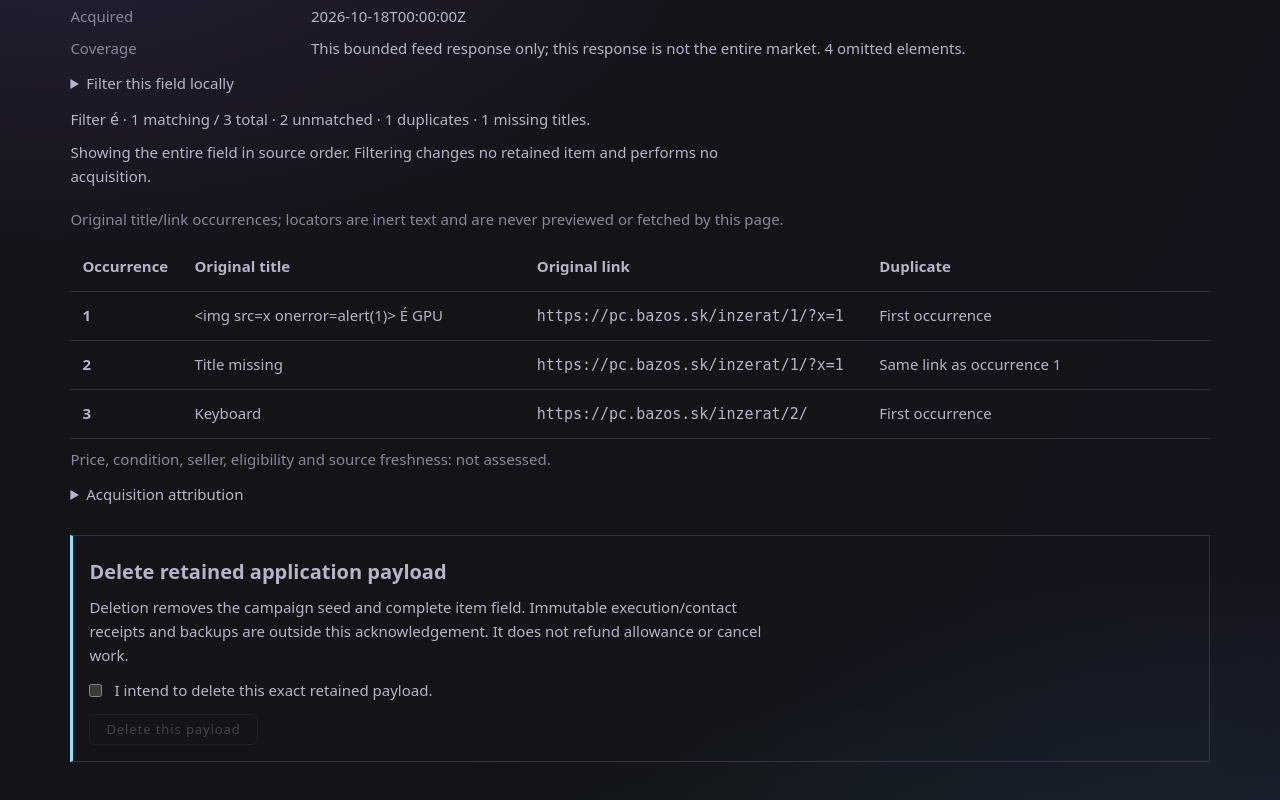
requires explicit terminal-delete confirmation and clears the complete payload only after the exact acknowledgement
(page scrolled)
Expected: the text "Keyboard" is shown, [182,390,525,439]
Expected: the button "Delete this payload" is disabled, [89,714,258,745]
Step 1. Click the checkbox labelled "I intend to delete this exact retained payload." → (96, 690), box [89,684,102,697]
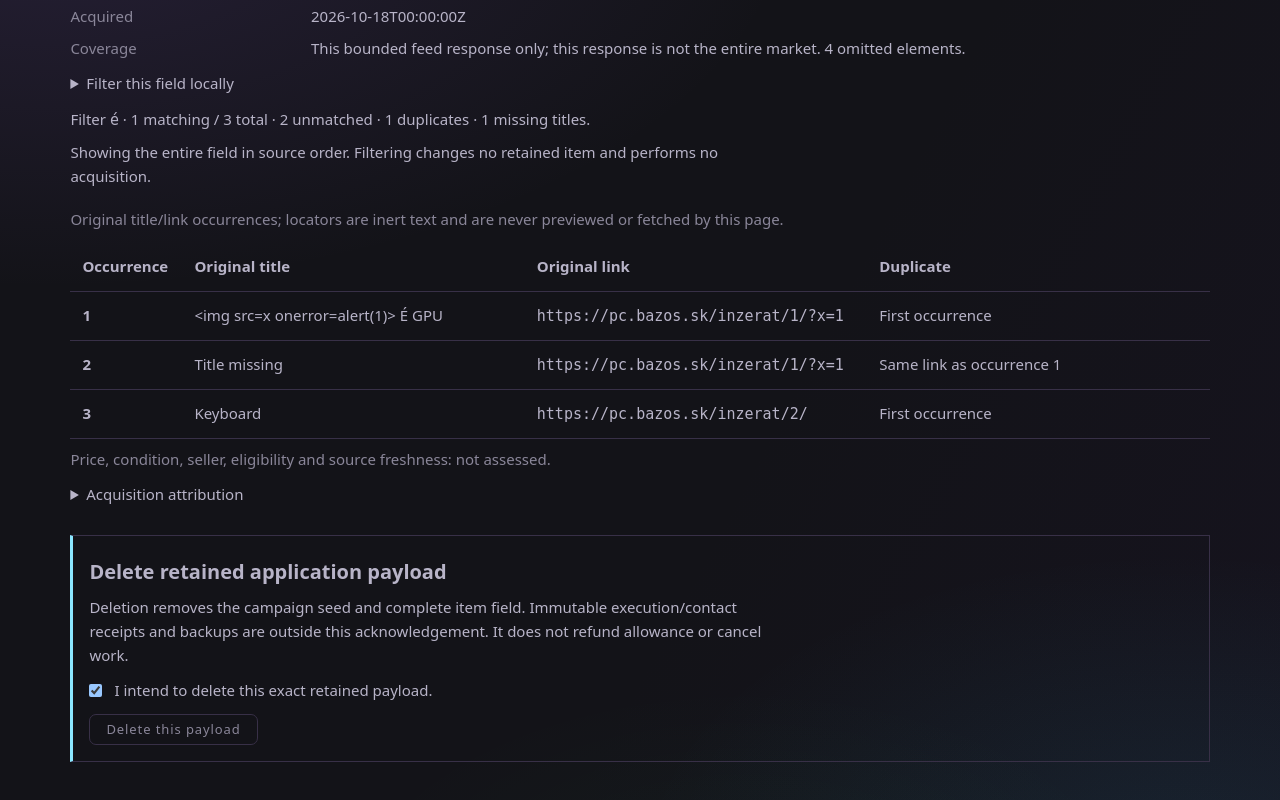
Step 2. Click the button "Delete this payload" → (174, 729), box [89,714,258,745]
(page scrolled)
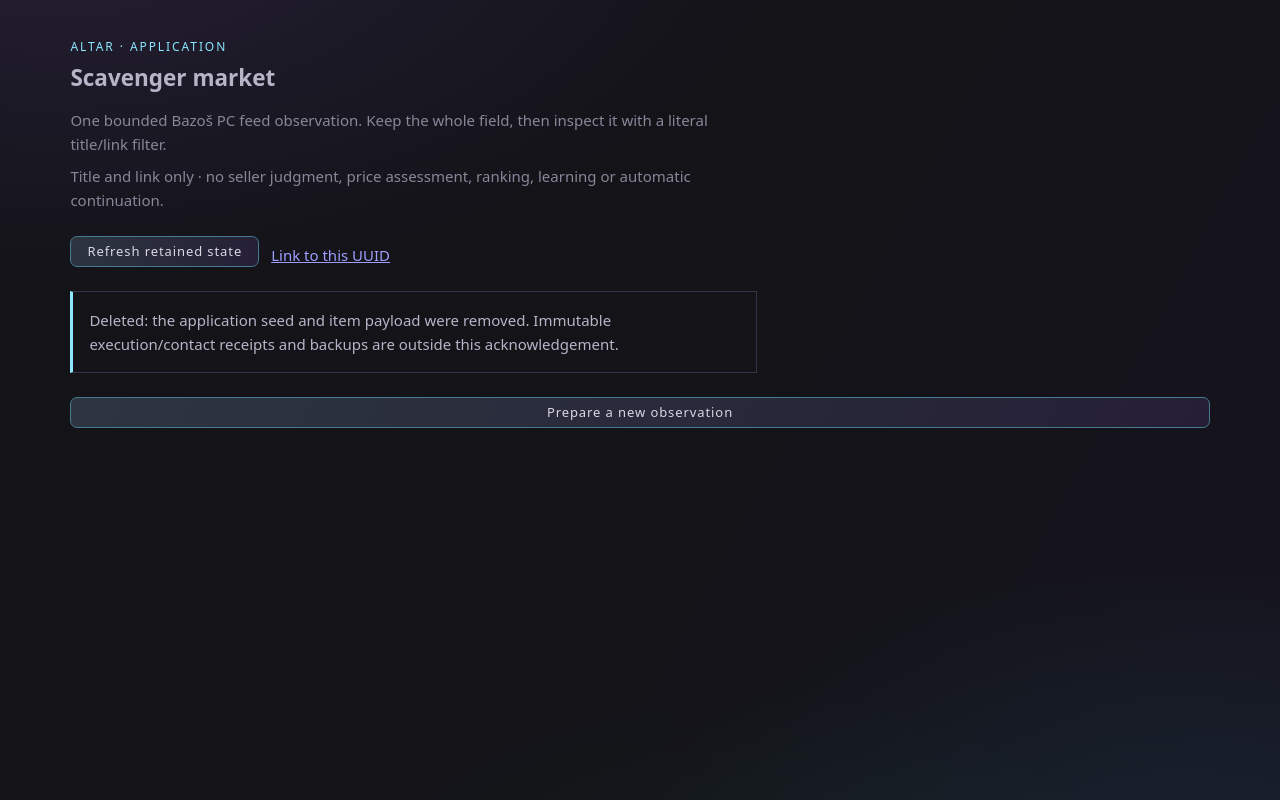
Expected: the text "Deleted: the application seed and item payload were removed" is shown, [89,310,619,354]
Expected: the text "Keyboard" is gone
